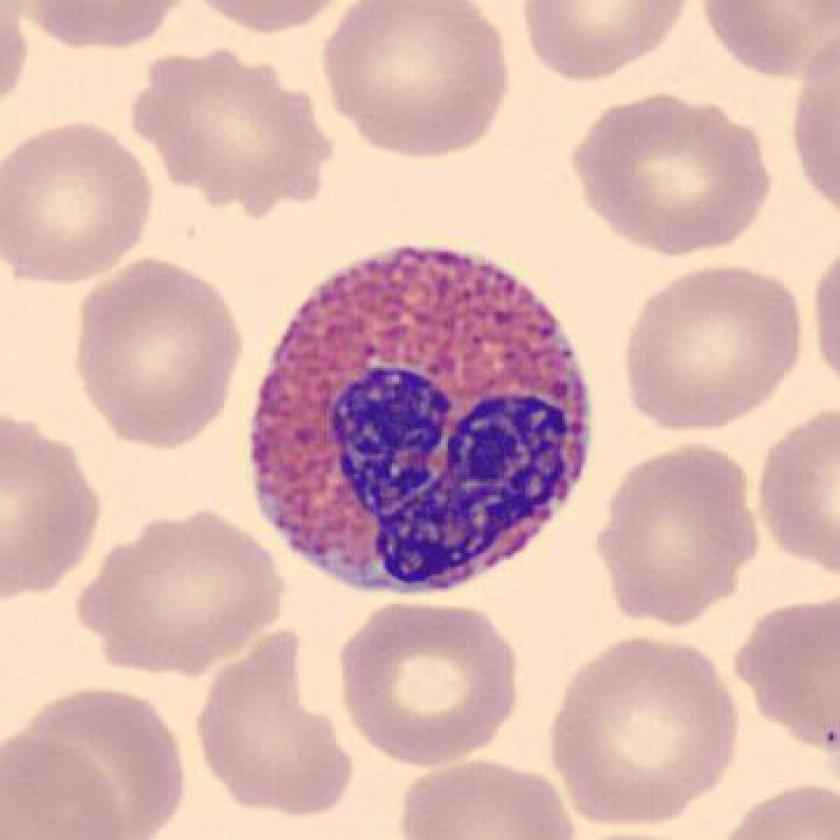eosinophil: (237, 233, 603, 603)
